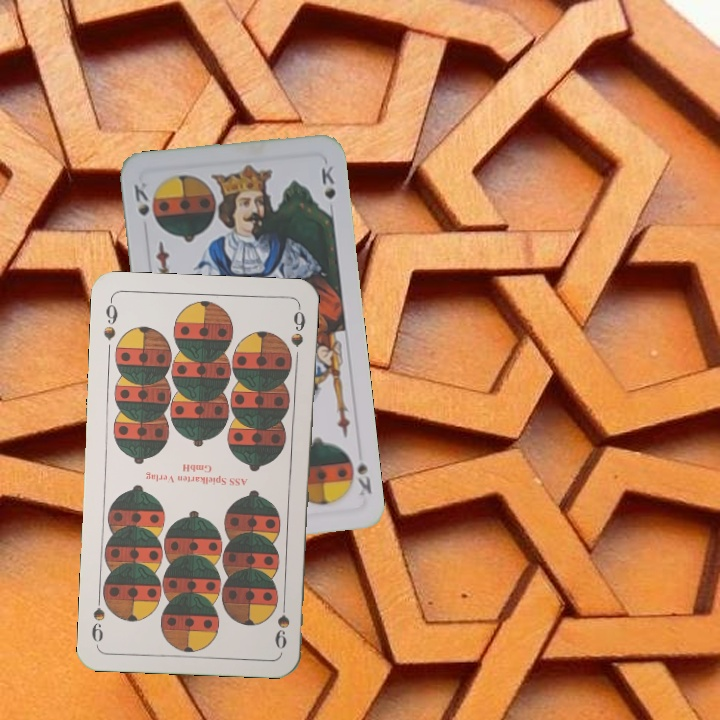S9: (271, 593, 293, 652), (99, 296, 120, 343)
SK: (130, 180, 158, 224), (353, 458, 375, 499)
